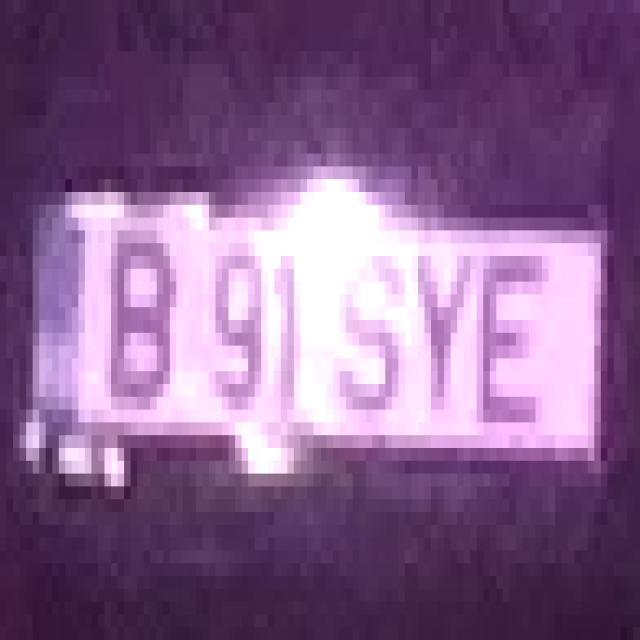Autre: (29, 186, 607, 478)
